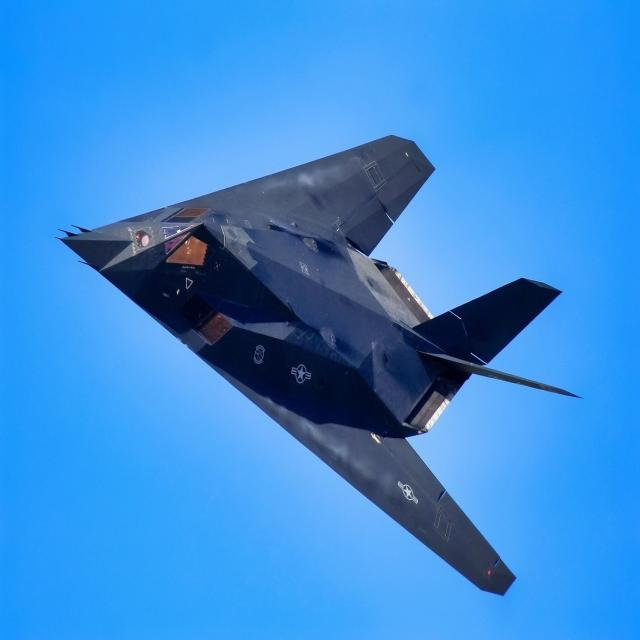F117: (39, 107, 610, 627)
